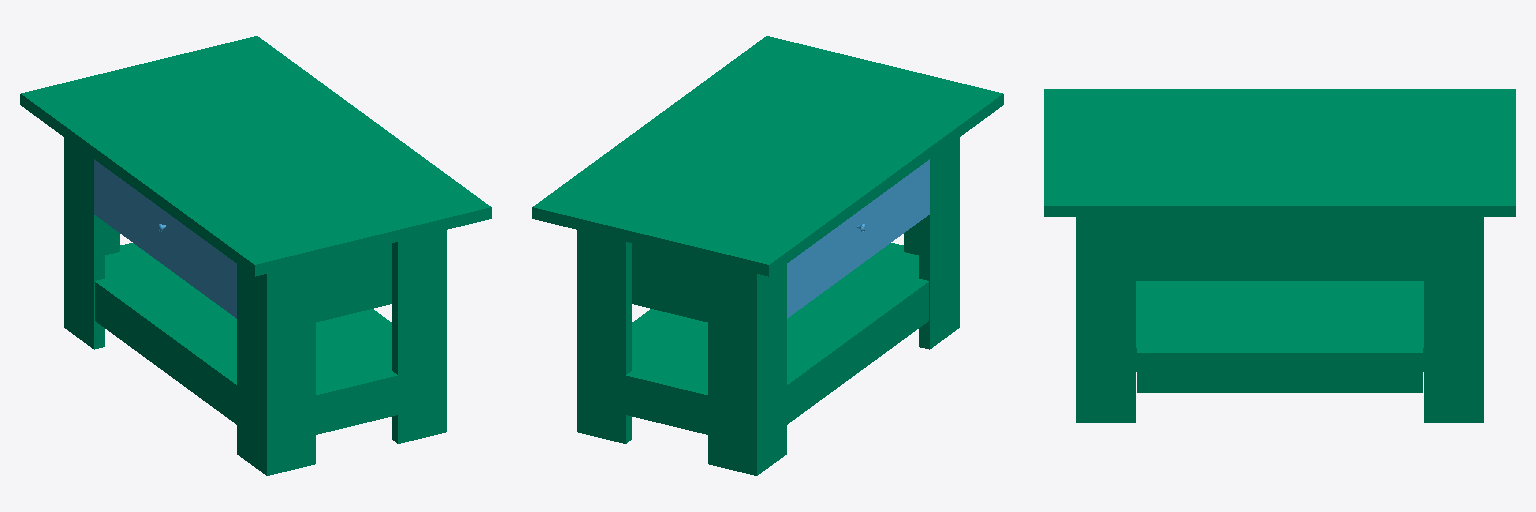
The robot description file, URDF, robot "partnet_712d2c844d61aa9cefead98a255f706f":
<?xml version="1.0" ?>
<robot name="partnet_712d2c844d61aa9cefead98a255f706f">
	<link name="base"/>
	<link name="link_0">
		<visual name="drawer_front-58">
			<origin xyz="0 0 0"/>
			<geometry>
				<mesh filename="textured_objs/original-42.obj"/>
			</geometry>
		</visual>
		<visual name="drawer_side-59">
			<origin xyz="0 0 0"/>
			<geometry>
				<mesh filename="textured_objs/original-39.obj"/>
			</geometry>
		</visual>
		<visual name="drawer_side-60">
			<origin xyz="0 0 0"/>
			<geometry>
				<mesh filename="textured_objs/original-40.obj"/>
			</geometry>
		</visual>
		<visual name="drawer_bottom-61">
			<origin xyz="0 0 0"/>
			<geometry>
				<mesh filename="textured_objs/original-43.obj"/>
			</geometry>
		</visual>
		<visual name="drawer_back-71">
			<origin xyz="0 0 0"/>
			<geometry>
				<mesh filename="textured_objs/original-41.obj"/>
			</geometry>
		</visual>
		<visual name="handle-57">
			<origin xyz="0 0 0"/>
			<geometry>
				<mesh filename="textured_objs/original-54.obj"/>
			</geometry>
		</visual>
		<collision>
			<origin xyz="0 0 0"/>
			<geometry>
				<mesh filename="textured_objs/original-42.obj"/>
			</geometry>
		</collision>
		<collision>
			<origin xyz="0 0 0"/>
			<geometry>
				<mesh filename="textured_objs/original-39.obj"/>
			</geometry>
		</collision>
		<collision>
			<origin xyz="0 0 0"/>
			<geometry>
				<mesh filename="textured_objs/original-40.obj"/>
			</geometry>
		</collision>
		<collision>
			<origin xyz="0 0 0"/>
			<geometry>
				<mesh filename="textured_objs/original-43.obj"/>
			</geometry>
		</collision>
		<collision>
			<origin xyz="0 0 0"/>
			<geometry>
				<mesh filename="textured_objs/original-41.obj"/>
			</geometry>
		</collision>
		<collision>
			<origin xyz="0 0 0"/>
			<geometry>
				<mesh filename="textured_objs/original-54.obj"/>
			</geometry>
		</collision>
	</link>
	<joint name="joint_0" type="prismatic">
		<origin xyz="0 0 0"/>
		<axis xyz="0 0 1"/>
		<child link="link_0"/>
		<parent link="link_1"/>
		<limit lower="0" upper="0.496"/>
	</joint>
	<link name="link_1">
		<visual name="board-65">
			<origin xyz="0 0 0"/>
			<geometry>
				<mesh filename="textured_objs/original-47.obj"/>
			</geometry>
		</visual>
		<visual name="board-65">
			<origin xyz="0 0 0"/>
			<geometry>
				<mesh filename="textured_objs/original-46.obj"/>
			</geometry>
		</visual>
		<visual name="board-65">
			<origin xyz="0 0 0"/>
			<geometry>
				<mesh filename="textured_objs/original-49.obj"/>
			</geometry>
		</visual>
		<visual name="board-65">
			<origin xyz="0 0 0"/>
			<geometry>
				<mesh filename="textured_objs/original-48.obj"/>
			</geometry>
		</visual>
		<visual name="board-65">
			<origin xyz="0 0 0"/>
			<geometry>
				<mesh filename="textured_objs/original-45.obj"/>
			</geometry>
		</visual>
		<visual name="bar_stretcher-34">
			<origin xyz="0 0 0"/>
			<geometry>
				<mesh filename="textured_objs/original-50.obj"/>
			</geometry>
		</visual>
		<visual name="bar_stretcher-35">
			<origin xyz="0 0 0"/>
			<geometry>
				<mesh filename="textured_objs/original-53.obj"/>
			</geometry>
		</visual>
		<visual name="bar_stretcher-36">
			<origin xyz="0 0 0"/>
			<geometry>
				<mesh filename="textured_objs/original-51.obj"/>
			</geometry>
		</visual>
		<visual name="bar_stretcher-37">
			<origin xyz="0 0 0"/>
			<geometry>
				<mesh filename="textured_objs/original-7.obj"/>
			</geometry>
		</visual>
		<visual name="bar_stretcher-38">
			<origin xyz="0 0 0"/>
			<geometry>
				<mesh filename="textured_objs/original-12.obj"/>
			</geometry>
		</visual>
		<visual name="bar_stretcher-39">
			<origin xyz="0 0 0"/>
			<geometry>
				<mesh filename="textured_objs/original-11.obj"/>
			</geometry>
		</visual>
		<visual name="bar_stretcher-40">
			<origin xyz="0 0 0"/>
			<geometry>
				<mesh filename="textured_objs/original-17.obj"/>
			</geometry>
		</visual>
		<visual name="bar_stretcher-41">
			<origin xyz="0 0 0"/>
			<geometry>
				<mesh filename="textured_objs/original-52.obj"/>
			</geometry>
		</visual>
		<visual name="back_panel-43">
			<origin xyz="0 0 0"/>
			<geometry>
				<mesh filename="textured_objs/original-23.obj"/>
			</geometry>
		</visual>
		<visual name="vertical_side_panel-44">
			<origin xyz="0 0 0"/>
			<geometry>
				<mesh filename="textured_objs/original-22.obj"/>
			</geometry>
		</visual>
		<visual name="vertical_side_panel-45">
			<origin xyz="0 0 0"/>
			<geometry>
				<mesh filename="textured_objs/original-21.obj"/>
			</geometry>
		</visual>
		<visual name="leg-46">
			<origin xyz="0 0 0"/>
			<geometry>
				<mesh filename="textured_objs/original-18.obj"/>
			</geometry>
		</visual>
		<visual name="leg-46">
			<origin xyz="0 0 0"/>
			<geometry>
				<mesh filename="textured_objs/original-10.obj"/>
			</geometry>
		</visual>
		<visual name="leg-47">
			<origin xyz="0 0 0"/>
			<geometry>
				<mesh filename="textured_objs/original-16.obj"/>
			</geometry>
		</visual>
		<visual name="leg-47">
			<origin xyz="0 0 0"/>
			<geometry>
				<mesh filename="textured_objs/original-15.obj"/>
			</geometry>
		</visual>
		<visual name="leg-48">
			<origin xyz="0 0 0"/>
			<geometry>
				<mesh filename="textured_objs/original-20.obj"/>
			</geometry>
		</visual>
		<visual name="leg-48">
			<origin xyz="0 0 0"/>
			<geometry>
				<mesh filename="textured_objs/original-9.obj"/>
			</geometry>
		</visual>
		<visual name="leg-49">
			<origin xyz="0 0 0"/>
			<geometry>
				<mesh filename="textured_objs/original-19.obj"/>
			</geometry>
		</visual>
		<visual name="leg-49">
			<origin xyz="0 0 0"/>
			<geometry>
				<mesh filename="textured_objs/original-14.obj"/>
			</geometry>
		</visual>
		<visual name="bar_stretcher-51">
			<origin xyz="0 0 0"/>
			<geometry>
				<mesh filename="textured_objs/original-36.obj"/>
			</geometry>
		</visual>
		<visual name="bar_stretcher-52">
			<origin xyz="0 0 0"/>
			<geometry>
				<mesh filename="textured_objs/original-32.obj"/>
			</geometry>
		</visual>
		<visual name="bar_stretcher-53">
			<origin xyz="0 0 0"/>
			<geometry>
				<mesh filename="textured_objs/original-33.obj"/>
			</geometry>
		</visual>
		<visual name="bar_stretcher-54">
			<origin xyz="0 0 0"/>
			<geometry>
				<mesh filename="textured_objs/original-31.obj"/>
			</geometry>
		</visual>
		<visual name="bar_stretcher-55">
			<origin xyz="0 0 0"/>
			<geometry>
				<mesh filename="textured_objs/original-27.obj"/>
			</geometry>
		</visual>
		<visual name="shelf-62">
			<origin xyz="0 0 0"/>
			<geometry>
				<mesh filename="textured_objs/original-13.obj"/>
			</geometry>
		</visual>
		<visual name="shelf-62">
			<origin xyz="0 0 0"/>
			<geometry>
				<mesh filename="textured_objs/original-8.obj"/>
			</geometry>
		</visual>
		<visual name="tabletop_connector-66">
			<origin xyz="0 0 0"/>
			<geometry>
				<mesh filename="textured_objs/original-26.obj"/>
			</geometry>
		</visual>
		<visual name="tabletop_connector-67">
			<origin xyz="0 0 0"/>
			<geometry>
				<mesh filename="textured_objs/original-28.obj"/>
			</geometry>
		</visual>
		<visual name="tabletop_connector-68">
			<origin xyz="0 0 0"/>
			<geometry>
				<mesh filename="textured_objs/original-30.obj"/>
			</geometry>
		</visual>
		<visual name="tabletop_connector-69">
			<origin xyz="0 0 0"/>
			<geometry>
				<mesh filename="textured_objs/original-29.obj"/>
			</geometry>
		</visual>
		<visual name="tabletop_connector-70">
			<origin xyz="0 0 0"/>
			<geometry>
				<mesh filename="textured_objs/original-35.obj"/>
			</geometry>
		</visual>
		<collision>
			<origin xyz="0 0 0"/>
			<geometry>
				<mesh filename="textured_objs/original-47.obj"/>
			</geometry>
		</collision>
		<collision>
			<origin xyz="0 0 0"/>
			<geometry>
				<mesh filename="textured_objs/original-46.obj"/>
			</geometry>
		</collision>
		<collision>
			<origin xyz="0 0 0"/>
			<geometry>
				<mesh filename="textured_objs/original-49.obj"/>
			</geometry>
		</collision>
		<collision>
			<origin xyz="0 0 0"/>
			<geometry>
				<mesh filename="textured_objs/original-48.obj"/>
			</geometry>
		</collision>
		<collision>
			<origin xyz="0 0 0"/>
			<geometry>
				<mesh filename="textured_objs/original-45.obj"/>
			</geometry>
		</collision>
		<collision>
			<origin xyz="0 0 0"/>
			<geometry>
				<mesh filename="textured_objs/original-50.obj"/>
			</geometry>
		</collision>
		<collision>
			<origin xyz="0 0 0"/>
			<geometry>
				<mesh filename="textured_objs/original-53.obj"/>
			</geometry>
		</collision>
		<collision>
			<origin xyz="0 0 0"/>
			<geometry>
				<mesh filename="textured_objs/original-51.obj"/>
			</geometry>
		</collision>
		<collision>
			<origin xyz="0 0 0"/>
			<geometry>
				<mesh filename="textured_objs/original-7.obj"/>
			</geometry>
		</collision>
		<collision>
			<origin xyz="0 0 0"/>
			<geometry>
				<mesh filename="textured_objs/original-12.obj"/>
			</geometry>
		</collision>
		<collision>
			<origin xyz="0 0 0"/>
			<geometry>
				<mesh filename="textured_objs/original-11.obj"/>
			</geometry>
		</collision>
		<collision>
			<origin xyz="0 0 0"/>
			<geometry>
				<mesh filename="textured_objs/original-17.obj"/>
			</geometry>
		</collision>
		<collision>
			<origin xyz="0 0 0"/>
			<geometry>
				<mesh filename="textured_objs/original-52.obj"/>
			</geometry>
		</collision>
		<collision>
			<origin xyz="0 0 0"/>
			<geometry>
				<mesh filename="textured_objs/original-23.obj"/>
			</geometry>
		</collision>
		<collision>
			<origin xyz="0 0 0"/>
			<geometry>
				<mesh filename="textured_objs/original-22.obj"/>
			</geometry>
		</collision>
		<collision>
			<origin xyz="0 0 0"/>
			<geometry>
				<mesh filename="textured_objs/original-21.obj"/>
			</geometry>
		</collision>
		<collision>
			<origin xyz="0 0 0"/>
			<geometry>
				<mesh filename="textured_objs/original-18.obj"/>
			</geometry>
		</collision>
		<collision>
			<origin xyz="0 0 0"/>
			<geometry>
				<mesh filename="textured_objs/original-10.obj"/>
			</geometry>
		</collision>
		<collision>
			<origin xyz="0 0 0"/>
			<geometry>
				<mesh filename="textured_objs/original-16.obj"/>
			</geometry>
		</collision>
		<collision>
			<origin xyz="0 0 0"/>
			<geometry>
				<mesh filename="textured_objs/original-15.obj"/>
			</geometry>
		</collision>
		<collision>
			<origin xyz="0 0 0"/>
			<geometry>
				<mesh filename="textured_objs/original-20.obj"/>
			</geometry>
		</collision>
		<collision>
			<origin xyz="0 0 0"/>
			<geometry>
				<mesh filename="textured_objs/original-9.obj"/>
			</geometry>
		</collision>
		<collision>
			<origin xyz="0 0 0"/>
			<geometry>
				<mesh filename="textured_objs/original-19.obj"/>
			</geometry>
		</collision>
		<collision>
			<origin xyz="0 0 0"/>
			<geometry>
				<mesh filename="textured_objs/original-14.obj"/>
			</geometry>
		</collision>
		<collision>
			<origin xyz="0 0 0"/>
			<geometry>
				<mesh filename="textured_objs/original-36.obj"/>
			</geometry>
		</collision>
		<collision>
			<origin xyz="0 0 0"/>
			<geometry>
				<mesh filename="textured_objs/original-32.obj"/>
			</geometry>
		</collision>
		<collision>
			<origin xyz="0 0 0"/>
			<geometry>
				<mesh filename="textured_objs/original-33.obj"/>
			</geometry>
		</collision>
		<collision>
			<origin xyz="0 0 0"/>
			<geometry>
				<mesh filename="textured_objs/original-31.obj"/>
			</geometry>
		</collision>
		<collision>
			<origin xyz="0 0 0"/>
			<geometry>
				<mesh filename="textured_objs/original-27.obj"/>
			</geometry>
		</collision>
		<collision>
			<origin xyz="0 0 0"/>
			<geometry>
				<mesh filename="textured_objs/original-13.obj"/>
			</geometry>
		</collision>
		<collision>
			<origin xyz="0 0 0"/>
			<geometry>
				<mesh filename="textured_objs/original-8.obj"/>
			</geometry>
		</collision>
		<collision>
			<origin xyz="0 0 0"/>
			<geometry>
				<mesh filename="textured_objs/original-26.obj"/>
			</geometry>
		</collision>
		<collision>
			<origin xyz="0 0 0"/>
			<geometry>
				<mesh filename="textured_objs/original-28.obj"/>
			</geometry>
		</collision>
		<collision>
			<origin xyz="0 0 0"/>
			<geometry>
				<mesh filename="textured_objs/original-30.obj"/>
			</geometry>
		</collision>
		<collision>
			<origin xyz="0 0 0"/>
			<geometry>
				<mesh filename="textured_objs/original-29.obj"/>
			</geometry>
		</collision>
		<collision>
			<origin xyz="0 0 0"/>
			<geometry>
				<mesh filename="textured_objs/original-35.obj"/>
			</geometry>
		</collision>
	</link>
	<joint name="joint_1" type="fixed">
		<origin rpy="1.570796326794897 0 -1.570796326794897" xyz="0 0 0"/>
		<child link="link_1"/>
		<parent link="base"/>
	</joint>
</robot>

--- Render facts (derived) ---
3 views of the same robot in one strip: view 1: azimuth 30°, elevation 25°; view 2: azimuth 150°, elevation 25°; view 3: azimuth 270°, elevation 25° (orthographic).
Robot: partnet_712d2c844d61aa9cefead98a255f706f — 3 links, 2 joints (1 prismatic, 1 fixed); root link base; default pose: all joints at 0.
Visible links, largest first — view 1: link_1, link_0; view 2: link_1, link_0; view 3: link_1.
Link boxes in pixels (<box>): link_1: <box>20,36,491,475</box>; link_0: <box>94,159,236,318</box>; link_1: <box>532,36,1003,475</box>; link_0: <box>787,159,929,318</box>; link_1: <box>1044,89,1515,422</box>.
Size in the robot's own frame: 0.9852 by 1.69 by 0.9134 metres.
42 mesh visuals loaded from 42 distinct referenced files (42 OBJ).
